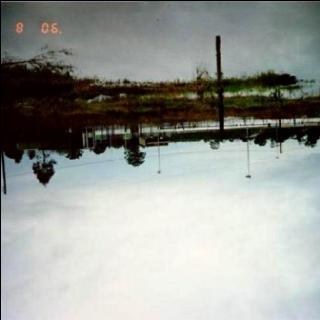Stratus: (0, 173, 320, 320)
